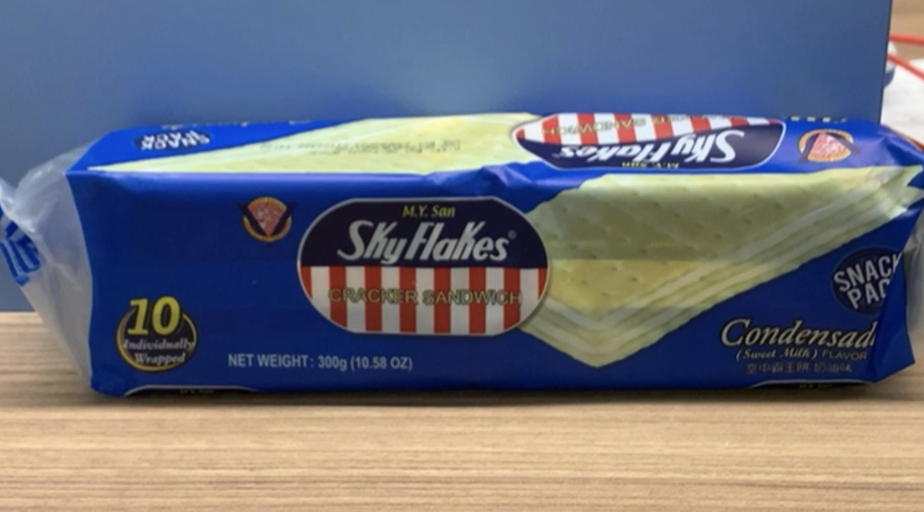crackers_150g: (102, 133, 899, 377)
